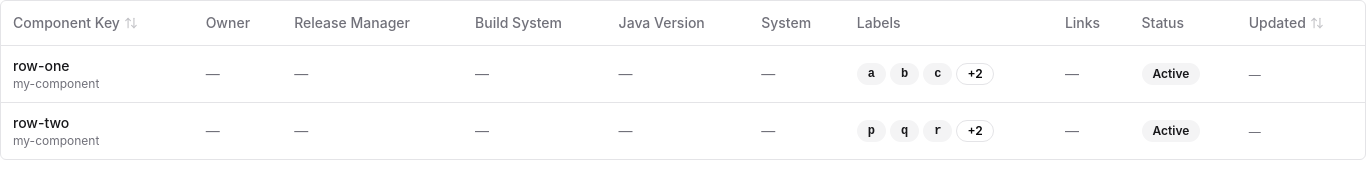
Test case: ComponentTable › Wave 2 — Labels column › expansion is per-row (expanding one row does not affect another)
Note: Expand the first row only.
Click the button named "show all 5 labels". click: click(975, 74)
box: [956,62,994,84]
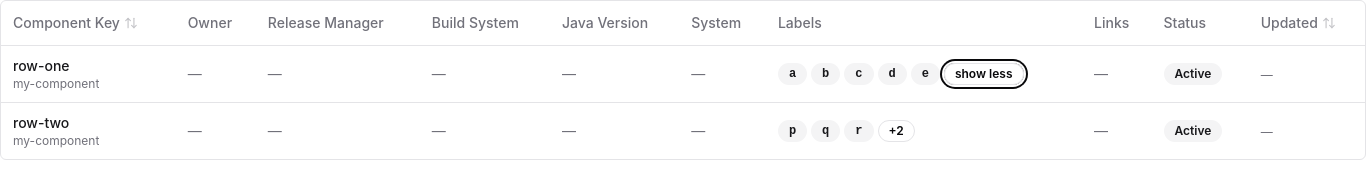
Expected: the text "d" is shown, [878,62,907,84]
Expected: the text "e" is shown, [911,62,940,84]
